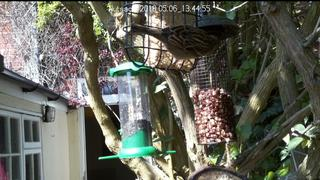sparrow: (130, 23, 220, 64)
